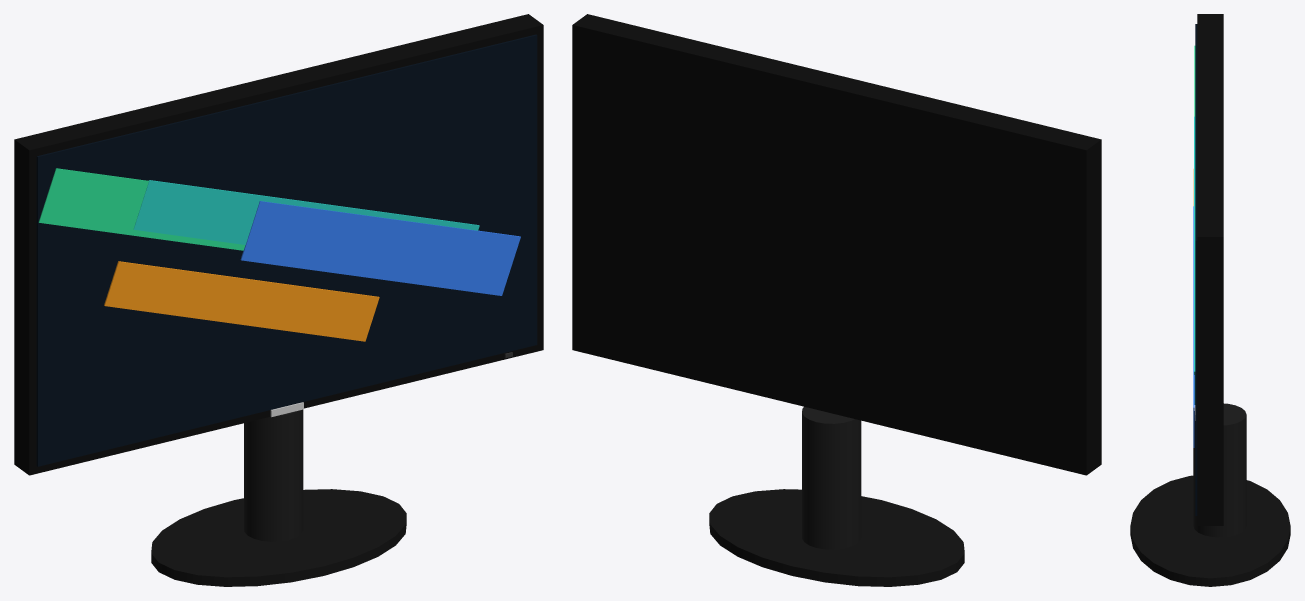
Rendered from 22-monitor-acer-silk.glb.
3 renders of one model, left to right at view 1: azimuth 30°, elevation 25°; view 2: azimuth 150°, elevation 25°; view 3: azimuth 270°, elevation 25°, orthographic. The views are drawn at different scales.
Size of the model in its own units: 0.556 by 0.476 by 0.169.
